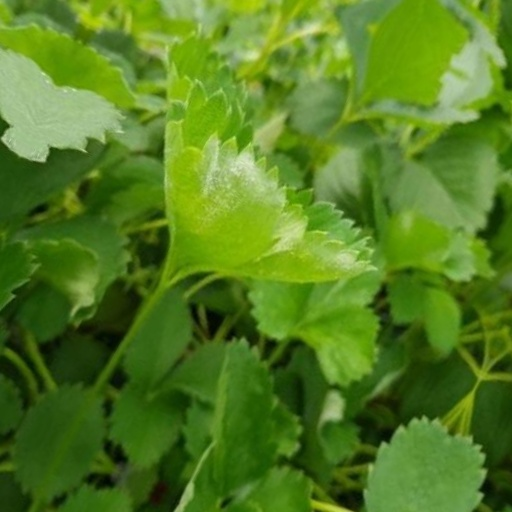Powdery Mildew Leaf: (115, 157, 272, 321), (234, 168, 373, 286)
